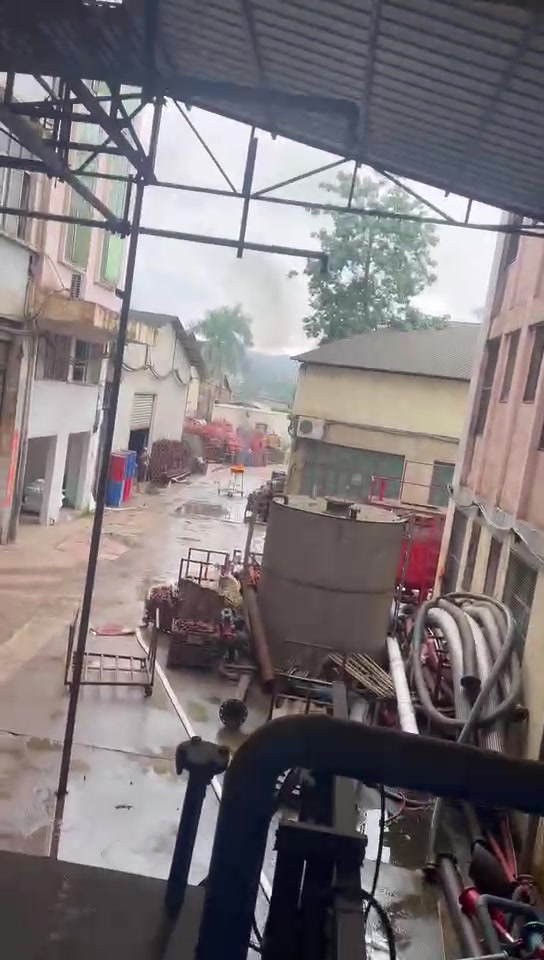fire: (231, 463, 243, 470)
